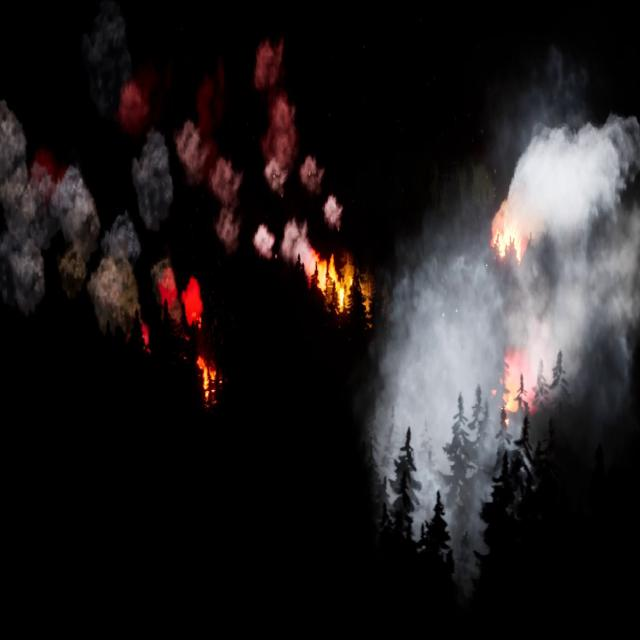fire: (311, 256, 364, 303), (198, 356, 218, 395)
smoke: (370, 87, 634, 560), (0, 39, 341, 344)
